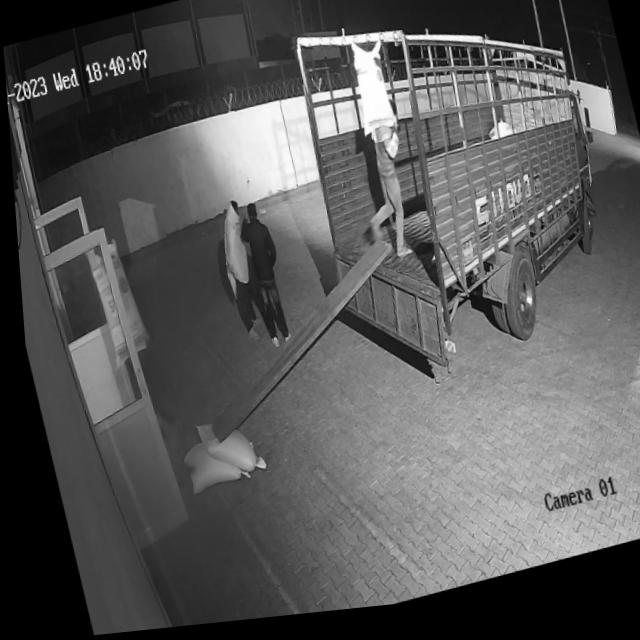sack: (80, 236, 148, 370), (342, 41, 399, 146), (187, 412, 253, 488), (172, 436, 237, 498)
